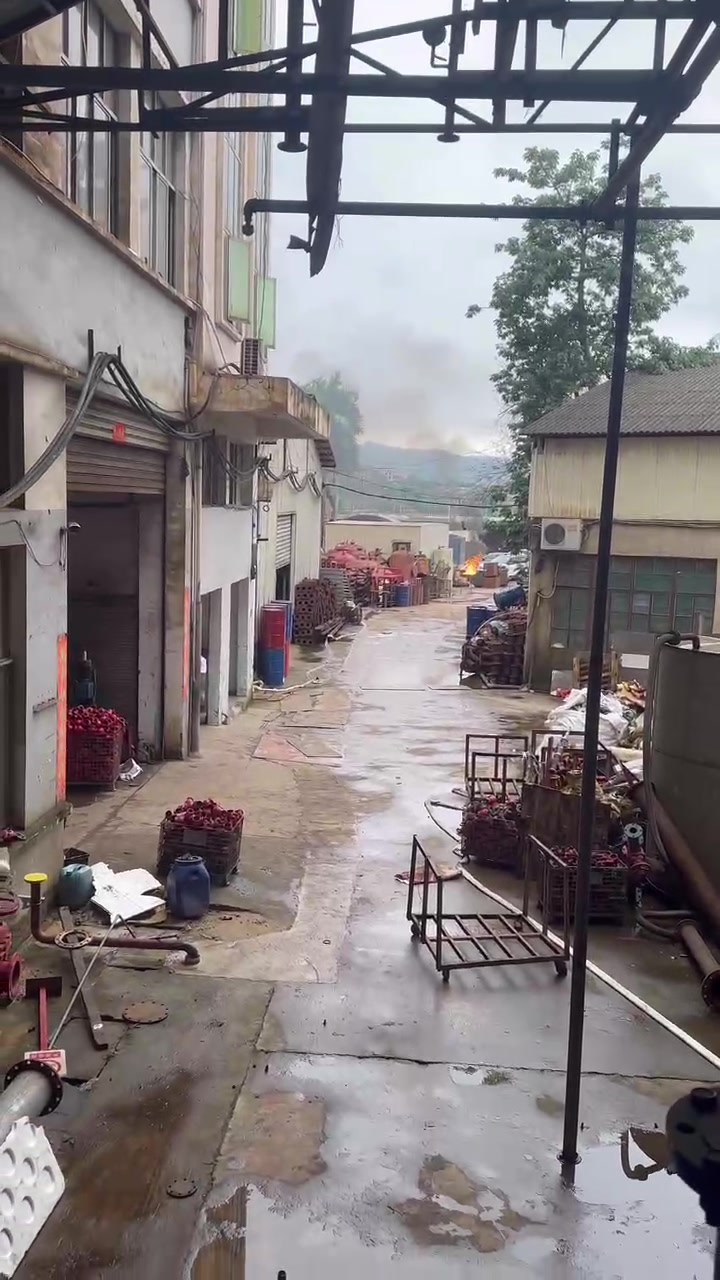fire: (462, 554, 479, 574)
